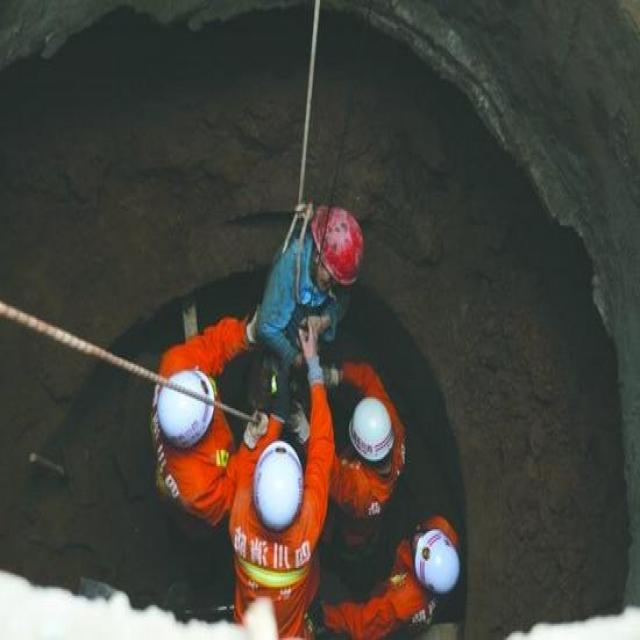reflective_jacket: (228, 510, 327, 639)
safety_helmet: (308, 197, 366, 286), (253, 438, 302, 533), (156, 365, 213, 443), (414, 527, 458, 590), (350, 395, 390, 459)
